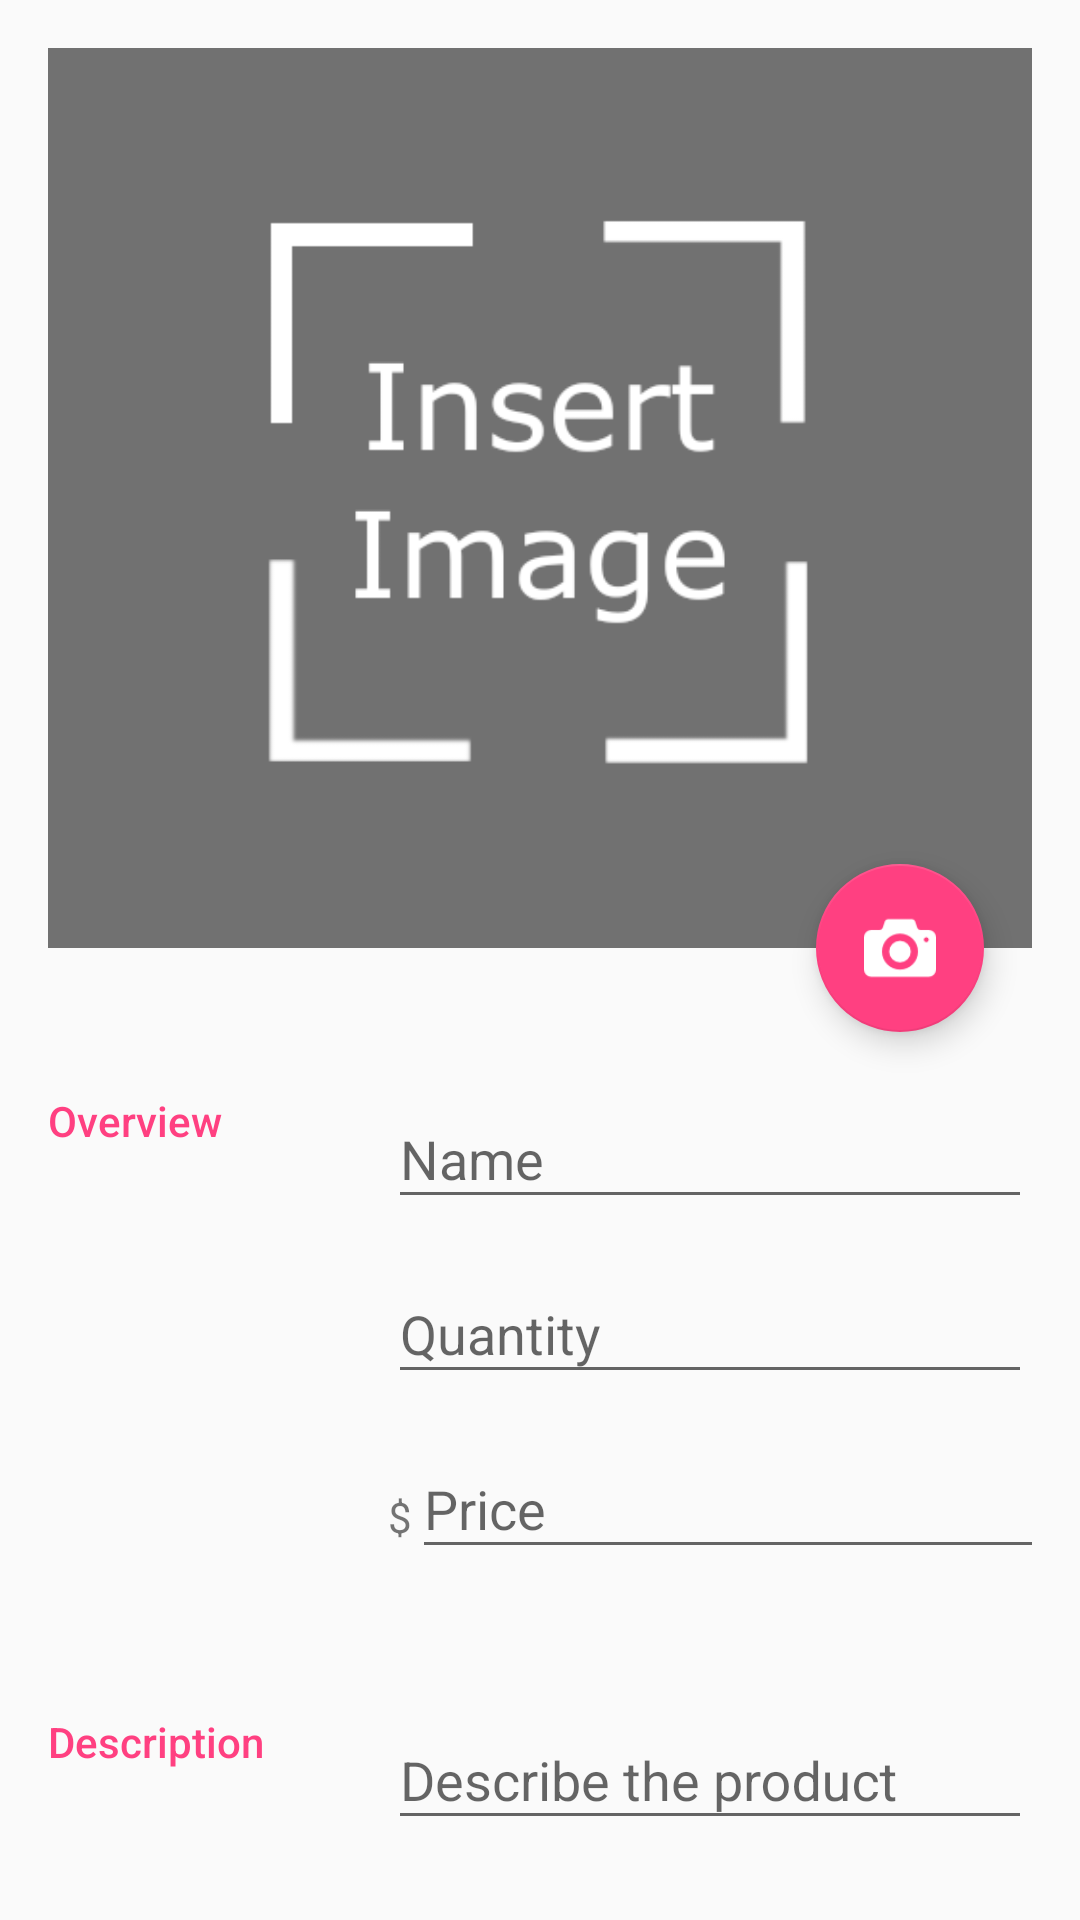

Point at icon controls on the screen. Image size 1080px x 1920px, points as (x=x, y=y).
camera: (x=900, y=948)
